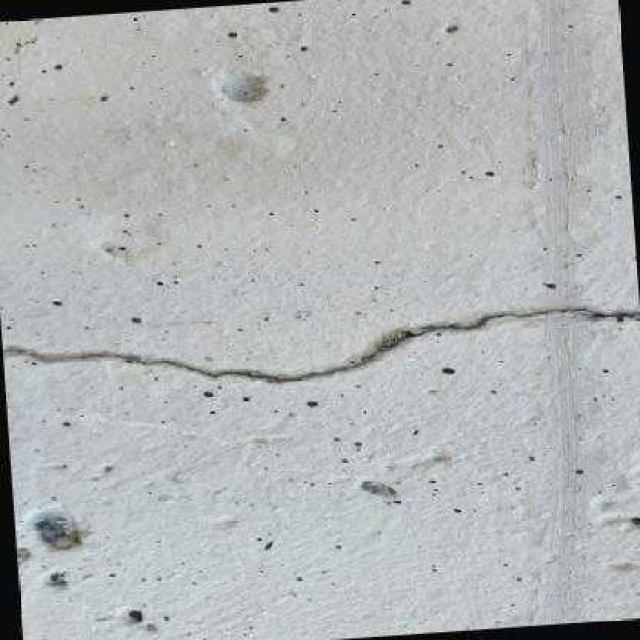D00: (1, 310, 640, 383)
